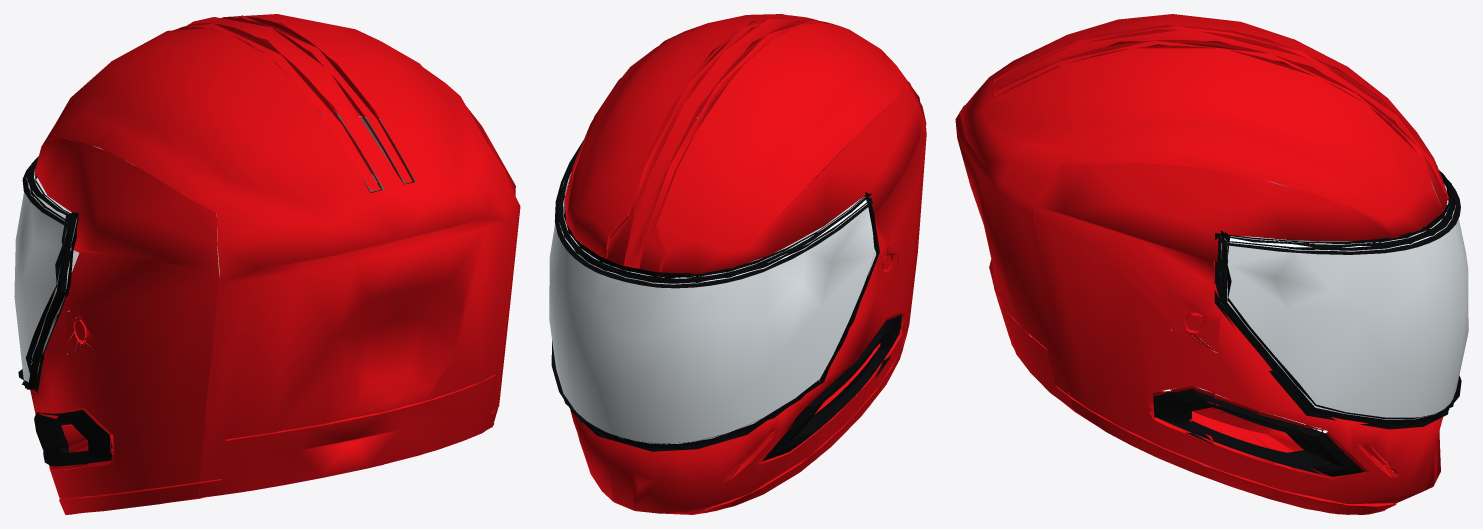
File: red_helmet.glb
3 views of the same model, side by side, from view 1: azimuth 30°, elevation 25°; view 2: azimuth 150°, elevation 25°; view 3: azimuth 270°, elevation 25° (orthographic). The views are drawn at different scales.
Parts seen in each view (by area): view 1: Red_Helmet_Shell, White_Visor, Top_Detail_Red, Black_Visor_Surround, Lower_Trim_Black; view 2: Red_Helmet_Shell, White_Visor, Black_Visor_Surround, Top_Detail_Red, Lower_Trim_Black; view 3: Red_Helmet_Shell, White_Visor, Black_Visor_Surround, Lower_Trim_Black, Top_Detail_Red.
Part boxes in pixels (left/top/right/bottom): Red_Helmet_Shell: left=30, top=14, right=520, bottom=514; White_Visor: left=14, top=112, right=416, bottom=382; Top_Detail_Red: left=183, top=15, right=413, bottom=192; Black_Visor_Surround: left=18, top=112, right=380, bottom=393; Lower_Trim_Black: left=34, top=409, right=113, bottom=466; Red_Helmet_Shell: left=564, top=14, right=926, bottom=514; White_Visor: left=549, top=172, right=876, bottom=444; Black_Visor_Surround: left=551, top=140, right=879, bottom=451; Top_Detail_Red: left=606, top=15, right=832, bottom=272; Lower_Trim_Black: left=605, top=249, right=901, bottom=461; Red_Helmet_Shell: left=955, top=14, right=1449, bottom=514; White_Visor: left=1220, top=178, right=1468, bottom=419; Black_Visor_Surround: left=1214, top=166, right=1461, bottom=429; Lower_Trim_Black: left=1153, top=389, right=1364, bottom=476; Top_Detail_Red: left=994, top=26, right=1447, bottom=210.
Size of the model in its own units: 0.4644 by 0.6031 by 0.6133.
1 material, 1 textured.
